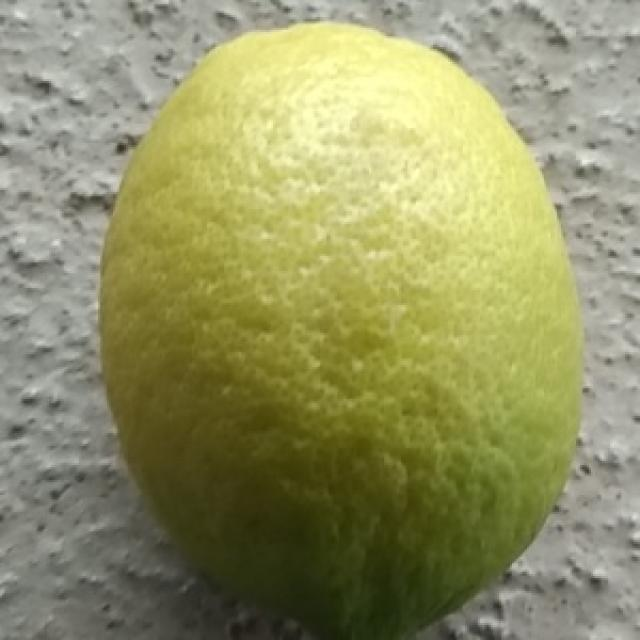Lemon: (96, 17, 587, 640)
